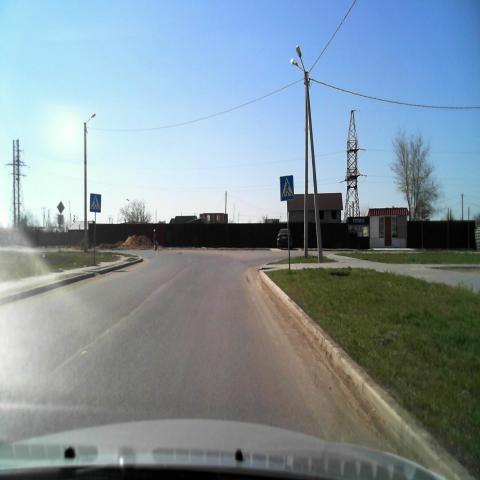5_19_1: (280, 175, 293, 200), (89, 192, 101, 212)
